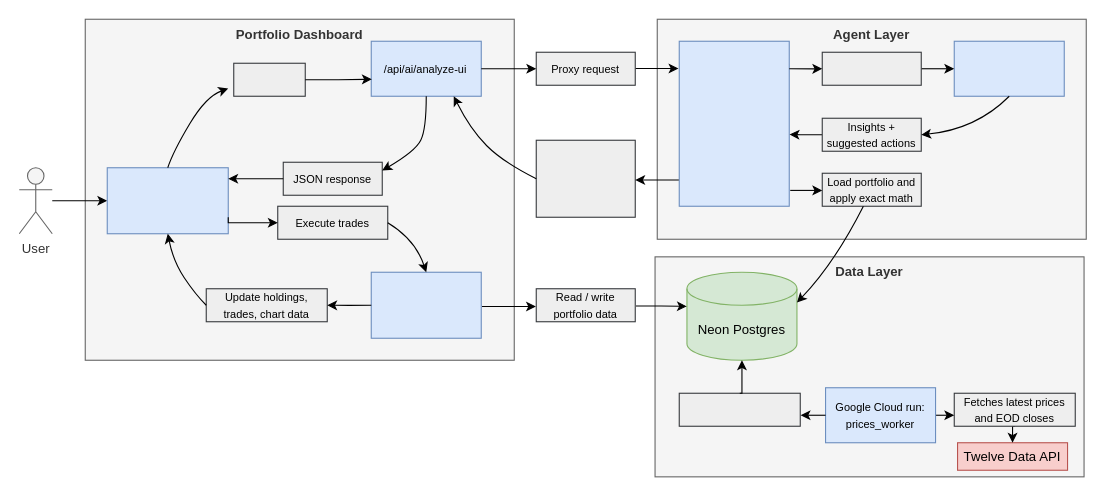
This 1106x496 diagram has some shape labels left out. Here are the shapes that lost their labels. From the top down, the centre of each, then its label:
At pixel 269 79: "POST Screenshot".
At pixel 871 68: "Multimodal prompt + image".
At pixel 1008 68: "Gemini Model via GenAI SDK / Vertex AI".
At pixel 733 123: "Google Cloud run: analyze_ui".
At pixel 585 178: "Return insights, quick actions, and calculated rebalance plans".
At pixel 167 200: "Next.js Frontend Dashboard UI".
At pixel 425 304: "Next.js API Routes (portfolio, trades, time-series)".
At pixel 739 409: "Updates latest_prices and time_series".
